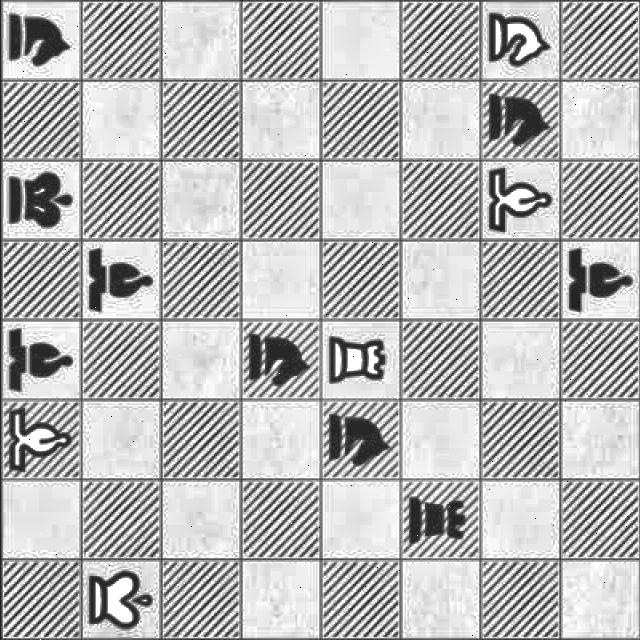Black Knight: (3, 5, 78, 77), (322, 406, 394, 476), (246, 324, 316, 396), (483, 84, 555, 152)
black bishop: (80, 242, 158, 318), (1, 326, 78, 396), (562, 243, 636, 314)
black king: (2, 170, 78, 233)
black rook: (402, 486, 478, 555)
white bishop: (476, 163, 560, 240), (3, 404, 75, 480)
white king: (87, 566, 155, 636)
white rook: (324, 326, 394, 396)
whiteknight: (481, 2, 557, 74)
